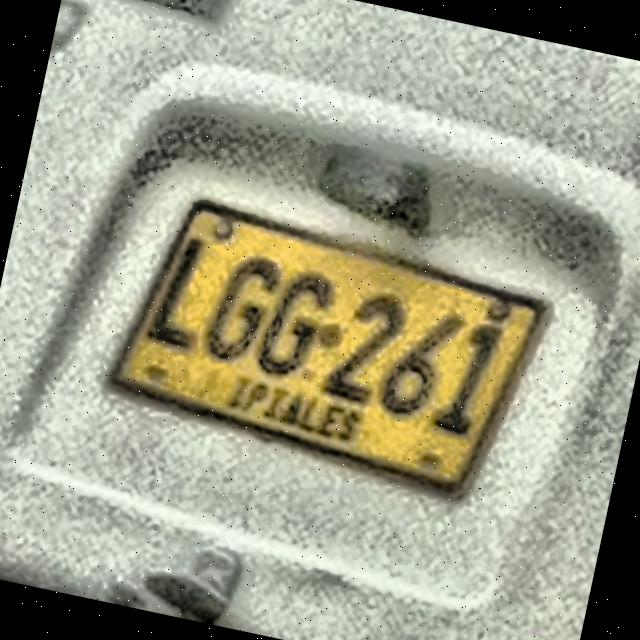plate: (116, 203, 541, 491)
